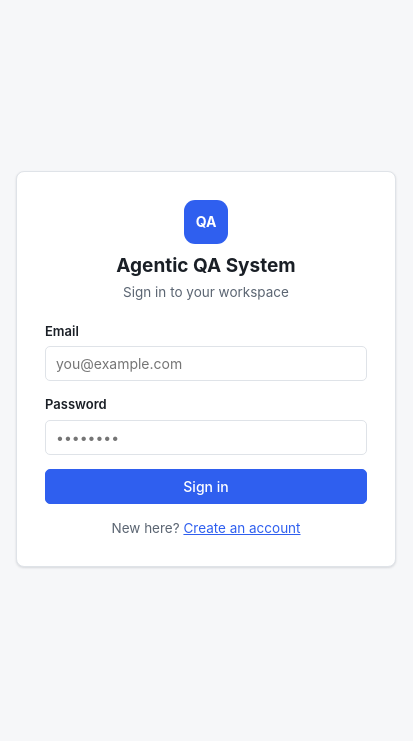
LoginPage › blocks sign-up when the passwords do not match
The image size is (413, 741).
Click the button "Create an account".
click(242, 528)  # box [183, 518, 300, 538]
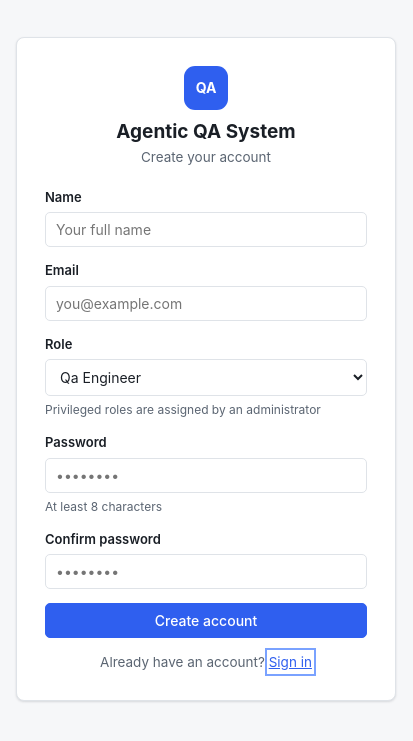
Type "new@example.com" into the field labelled "Email".
click(206, 303); type("new@example.com")  # box [45, 286, 367, 321]
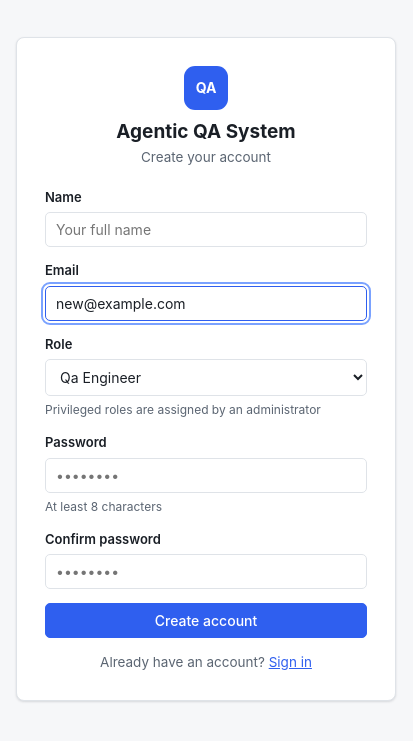
Type "secret123" into the password field labelled "Password".
click(206, 475); type("secret123")  # box [45, 458, 367, 493]
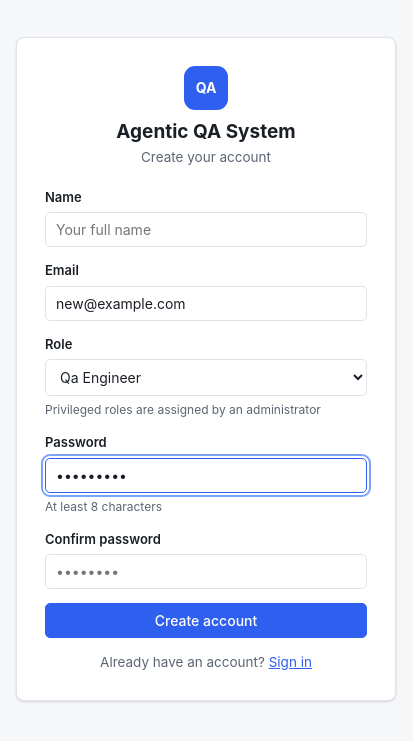
Type "different" into the password field labelled "Confirm password".
click(206, 572); type("different")  # box [45, 554, 367, 589]
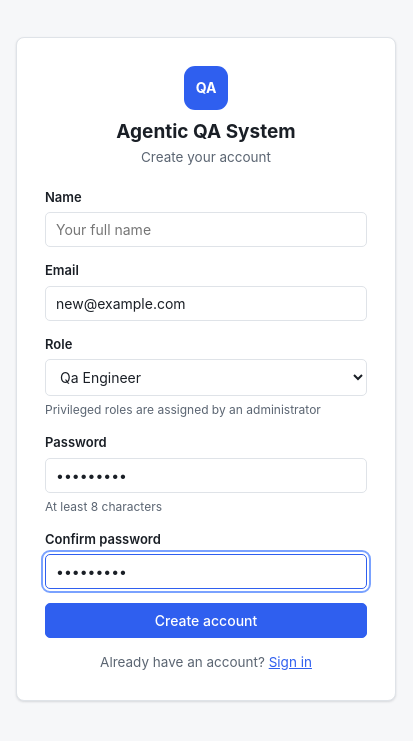
Click the button "Create account".
click(206, 621)  # box [45, 603, 367, 638]
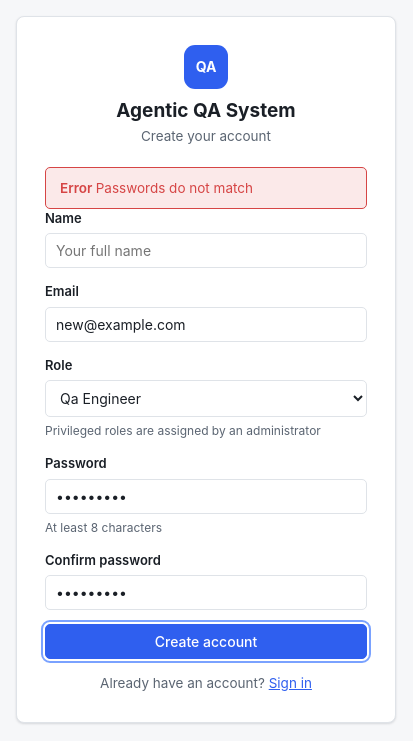
Expected: the message shows "Passwords do not match", [96, 180, 253, 196]
